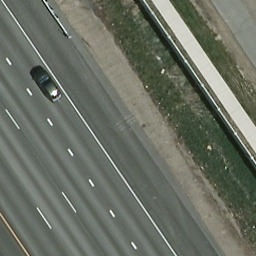car: (31, 69, 64, 101)
